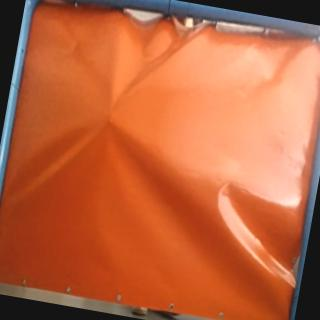Hit-hRxx: (102, 108, 122, 130)
